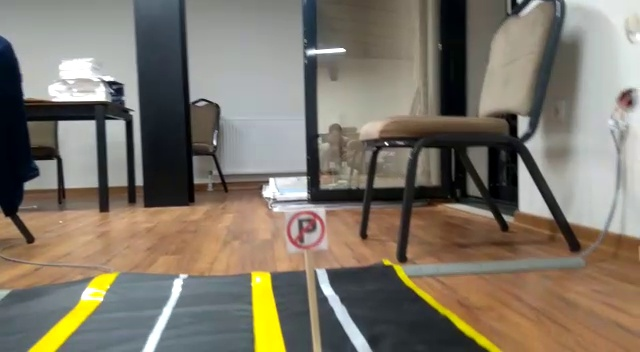park_yapilmaz: (286, 209, 324, 251)
